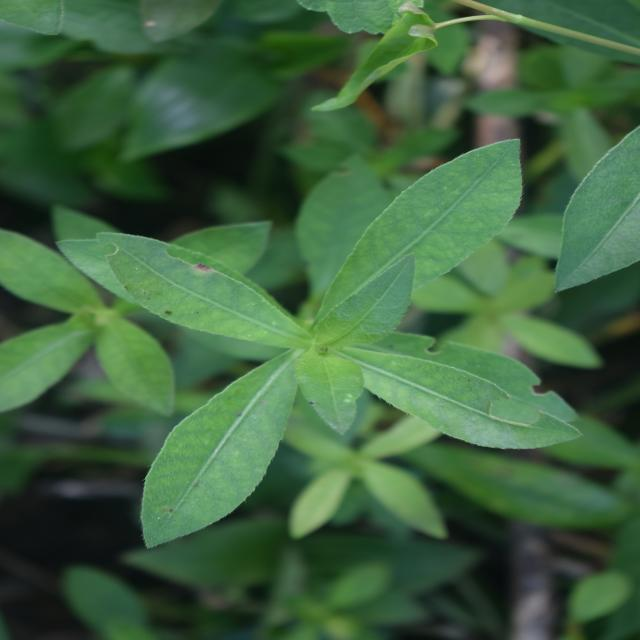Alligatorweed: (98, 87, 496, 576)
